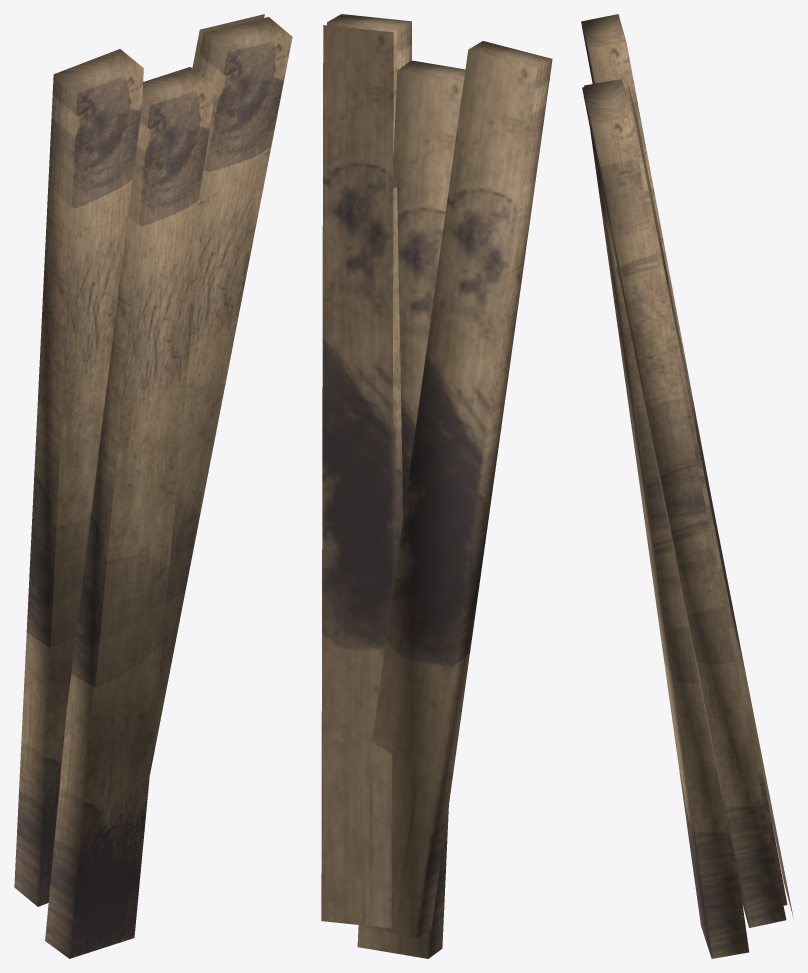
Rendered from Planks.fbx.
3 renders of one model, left to right at view 1: azimuth 30°, elevation 25°; view 2: azimuth 150°, elevation 25°; view 3: azimuth 270°, elevation 25°, orthographic. The views are drawn at different scales.
Parts seen in each view (by area): view 1: Planks; view 2: Planks; view 3: Planks.
Part boxes in pixels (x1,y1,x2,y2): Planks: (14,14,292,958); Planks: (321,14,552,958); Planks: (581,14,793,958).
Size of the model in its own units: 0.7143 by 2.84 by 0.6159.
